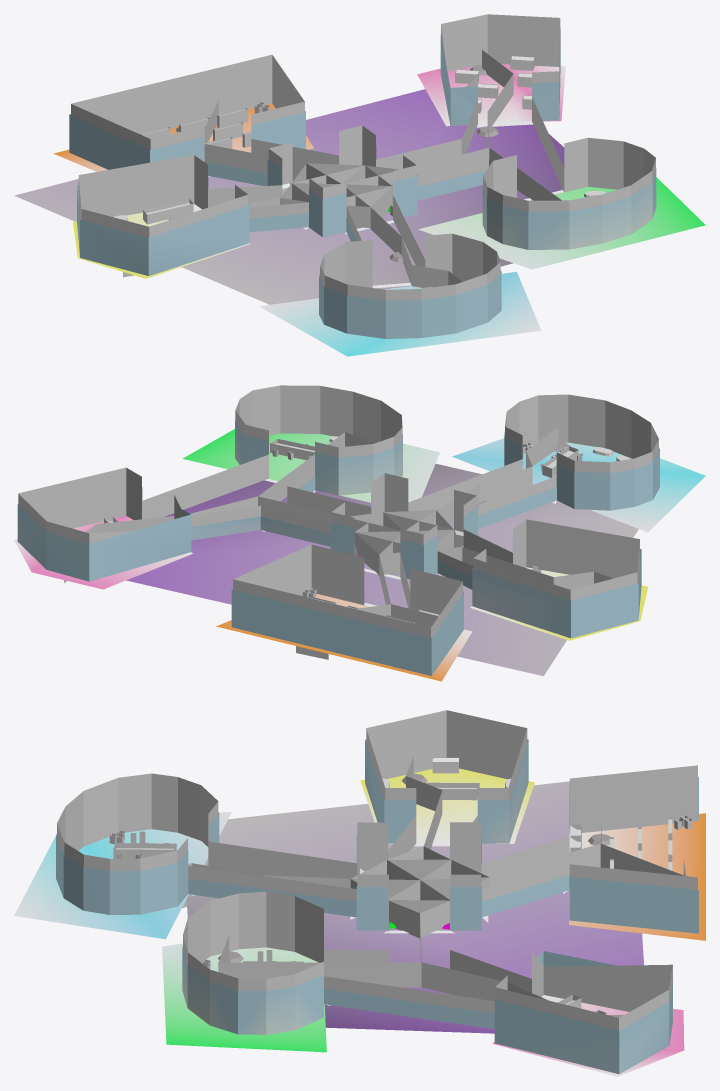
File: Spaceship_Lowest_Level.fbx
3 views of the same model, one above another, from view 1: azimuth 30°, elevation 25°; view 2: azimuth 150°, elevation 25°; view 3: azimuth 270°, elevation 25° (orthographic). The views are drawn at different scales.
Visible parts, largest first — view 1: Boundary, GeometryGround, GeometryWalls, Pathfinding, DecorBoundary Table.003; view 2: Boundary, GeometryWalls, GeometryGround, Pathfinding, DecorBoundary Table.005; view 3: Boundary, GeometryGround, GeometryWalls, Pathfinding, DecorBoundary Table, DecorBoundary Table.002.
Part boxes in pixels (<box>): Boundary: <box>71,14,655,300</box>; GeometryGround: <box>14,64,705,356</box>; GeometryWalls: <box>69,28,656,338</box>; Pathfinding: <box>123,50,561,287</box>; DecorBoundary Table.003: <box>143,198,193,224</box>; Boundary: <box>18,385,658,638</box>; GeometryWalls: <box>17,420,659,675</box>; GeometryGround: <box>14,429,705,681</box>; Pathfinding: <box>64,428,613,659</box>; DecorBoundary Table.005: <box>270,439,314,460</box>; Boundary: <box>57,710,697,1030</box>; GeometryGround: <box>14,768,705,1076</box>; GeometryWalls: <box>56,739,698,1074</box>; Pathfinding: <box>182,757,685,1017</box>; DecorBoundary Table: <box>113,843,176,858</box>; DecorBoundary Table.002: <box>424,782,479,800</box>.
Bounding box in the file's own units: 12815 × 1409 × 11973.
